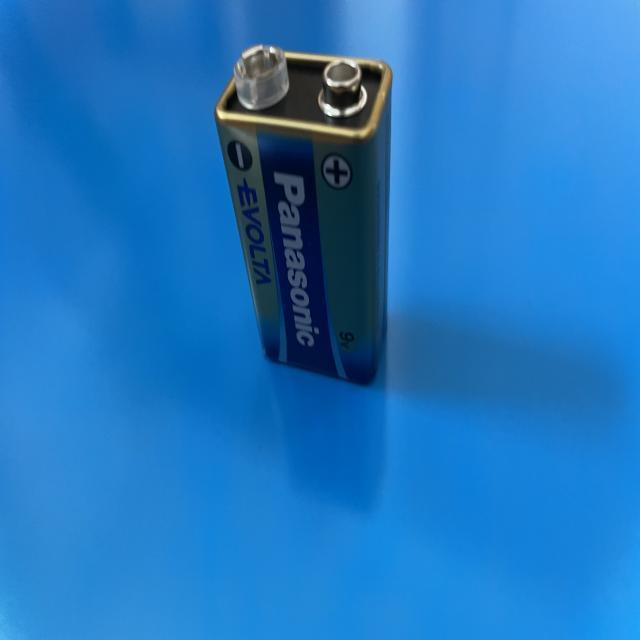9V: (214, 47, 393, 387)
